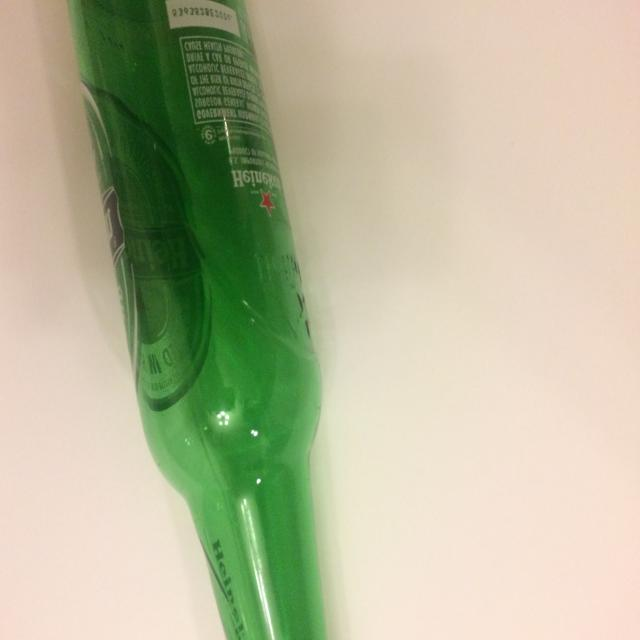glass: (74, 0, 352, 640)
